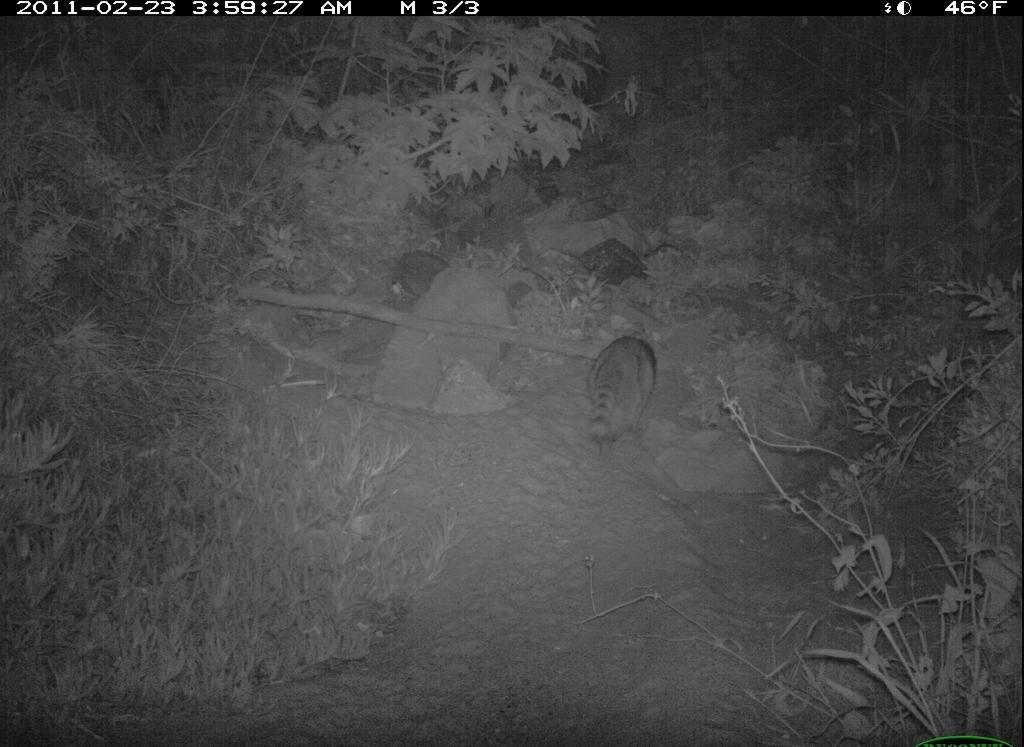raccoon: (582, 327, 664, 452)
